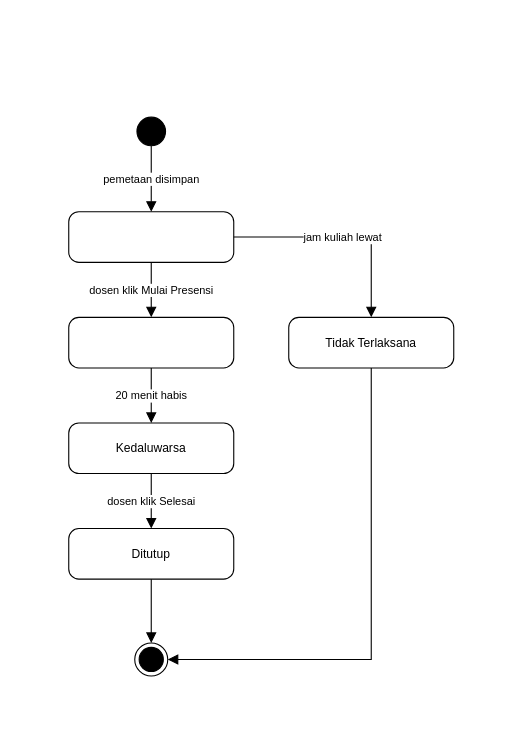
Image size: 521x741. Some labels were removed from this diagram. The shapes that lost their labels are listed below. From the top down, each one's centre as x and y in pixels, then its label:
At point (151, 236): "Terjadwal".
At point (151, 342): "Dibuka".
